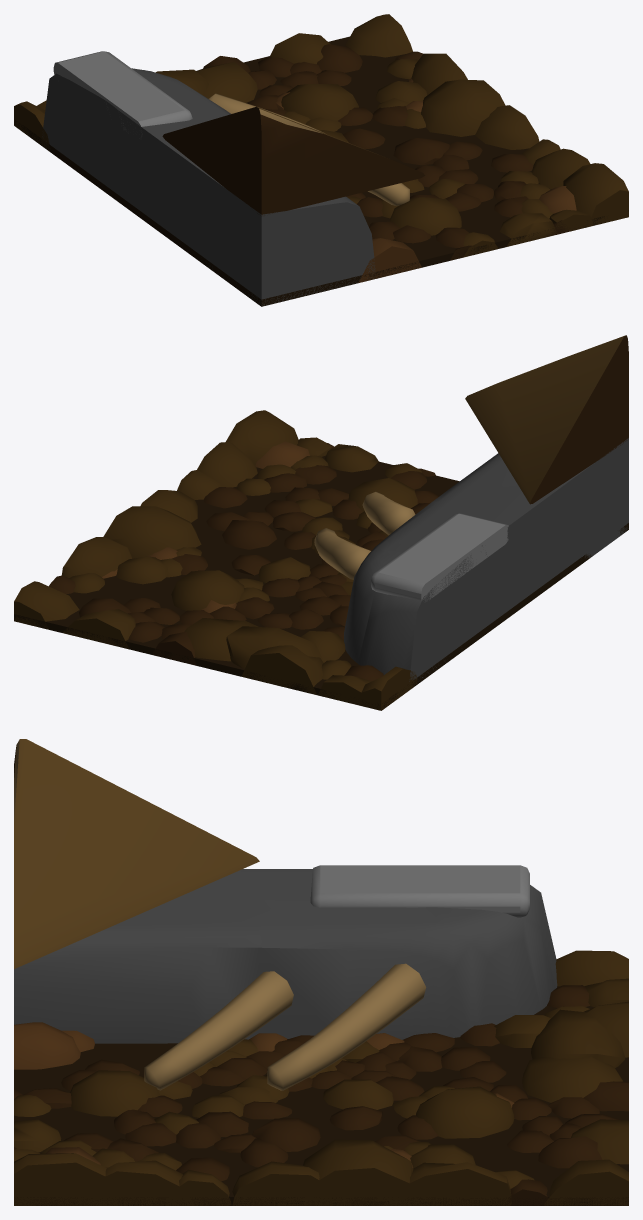
File: gold_pyramid_tr.glb
3 renders of one model, top to bottom at view 1: azimuth 30°, elevation 25°; view 2: azimuth 150°, elevation 25°; view 3: azimuth 270°, elevation 25°, orthographic. The views are drawn at different scales.
Visible parts, largest first — view 1: housing, pyramid, dirt_base, panel-0, dirt_32, dirt_36, dirt_65, dirt_63, dirt_56, dirt_40, dirt_26, dirt_0 (+36 smaller); view 2: housing, pyramid, dirt_base, panel-0, dirt_32, dirt_13, dirt_65, dirt_36, dirt_63, dirt_27, dirt_47, dirt_74 (+28 smaller); view 3: housing, pyramid, dirt_base, panel-0, horn2, horn3, dirt_32, dirt_36, dirt_47, dirt_65, dirt_46, dirt_27 (+42 smaller).
Part boxes in pixels (bbox=[...]): housing: bbox=[42, 68, 375, 306]; pyramid: bbox=[162, 106, 425, 215]; dirt_base: bbox=[14, 36, 628, 306]; panel-0: bbox=[53, 51, 192, 138]; dirt_32: bbox=[421, 79, 505, 136]; dirt_36: bbox=[563, 163, 628, 226]; dirt_65: bbox=[281, 84, 358, 120]; dirt_63: bbox=[345, 14, 412, 57]; dirt_56: bbox=[475, 105, 539, 149]; dirt_40: bbox=[390, 197, 461, 235]; dirt_26: bbox=[196, 62, 257, 102]; dirt_0: bbox=[358, 238, 421, 282]; housing: bbox=[344, 438, 628, 681]; pyramid: bbox=[465, 335, 628, 504]; dirt_base: bbox=[14, 455, 628, 710]; panel-0: bbox=[371, 513, 508, 601]; dirt_32: bbox=[103, 506, 201, 558]; dirt_13: bbox=[241, 645, 323, 694]; dirt_65: bbox=[171, 570, 244, 610]; dirt_36: bbox=[226, 410, 298, 464]; dirt_63: bbox=[14, 581, 79, 629]; dirt_27: bbox=[226, 626, 322, 668]; dirt_47: bbox=[61, 537, 132, 578]; dirt_74: bbox=[62, 609, 135, 649]; housing: bbox=[14, 869, 557, 1043]; pyramid: bbox=[14, 739, 259, 968]; dirt_base: bbox=[14, 986, 628, 1205]; panel-0: bbox=[310, 865, 529, 917]; horn2: bbox=[267, 963, 426, 1090]; horn3: bbox=[144, 971, 293, 1090]; dirt_32: bbox=[303, 1139, 413, 1205]; dirt_36: bbox=[14, 1153, 117, 1205]; dirt_47: bbox=[383, 1162, 511, 1205]; dirt_65: bbox=[416, 1086, 514, 1138]; dirt_46: bbox=[77, 1160, 193, 1205]; dirt_27: bbox=[531, 1009, 625, 1067].
Size of the model in its own units: 24 by 12.26 by 28.
